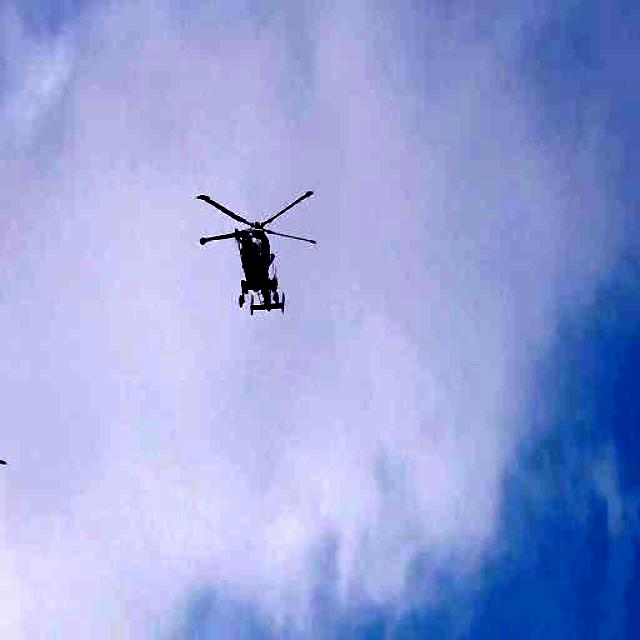drone: (172, 171, 321, 335)
